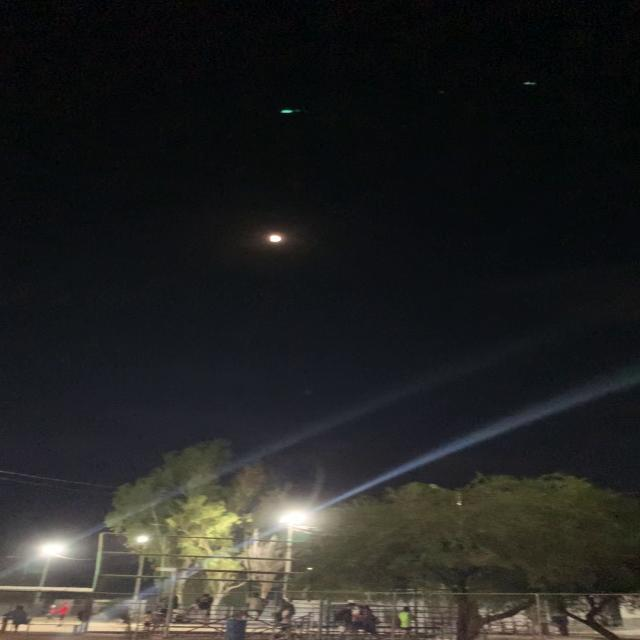moon: (18, 286, 110, 332)
